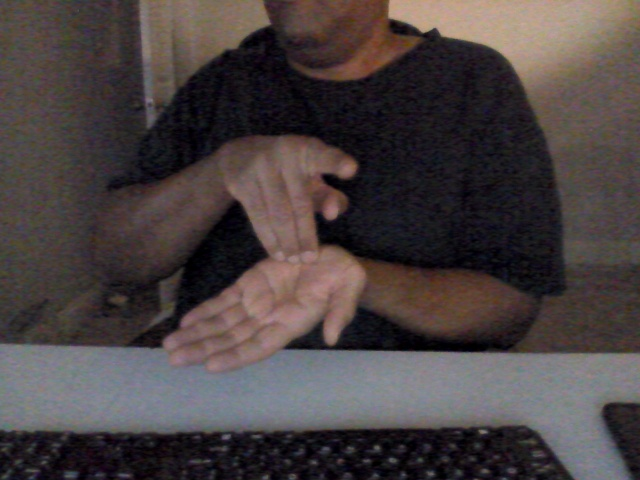doctor: (160, 123, 368, 391)
